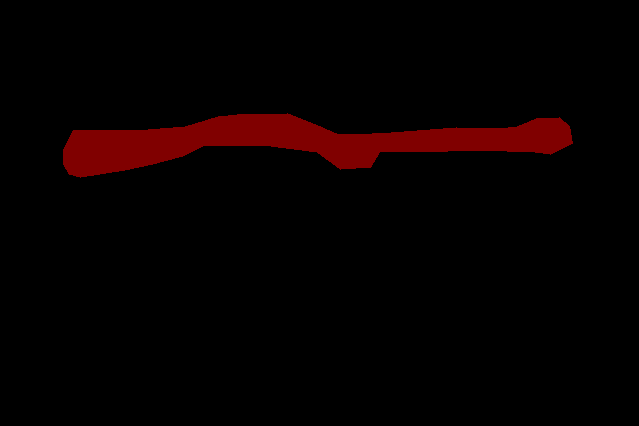fire: (63, 113, 572, 177)
